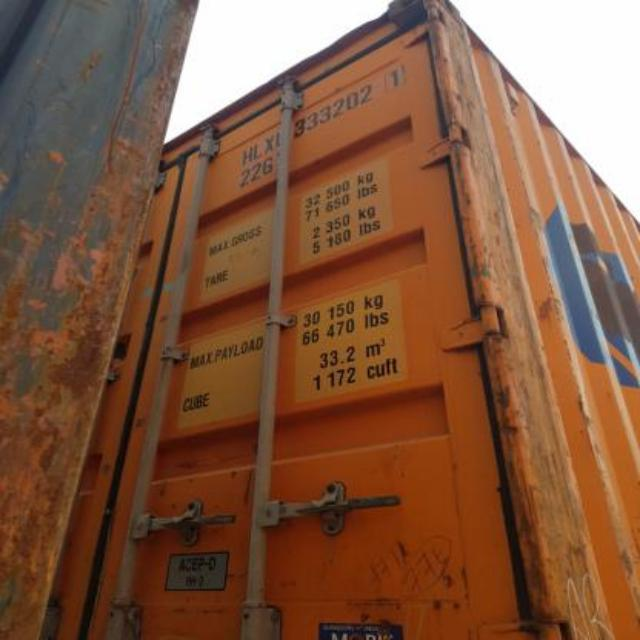0: (346, 92, 358, 110)
1: (388, 70, 400, 86)
2: (358, 82, 374, 106), (332, 99, 346, 117)
3: (318, 103, 332, 123), (308, 112, 320, 132), (294, 119, 304, 137)
H: (240, 147, 253, 163)
L: (252, 143, 264, 159)
X: (262, 134, 274, 152)
